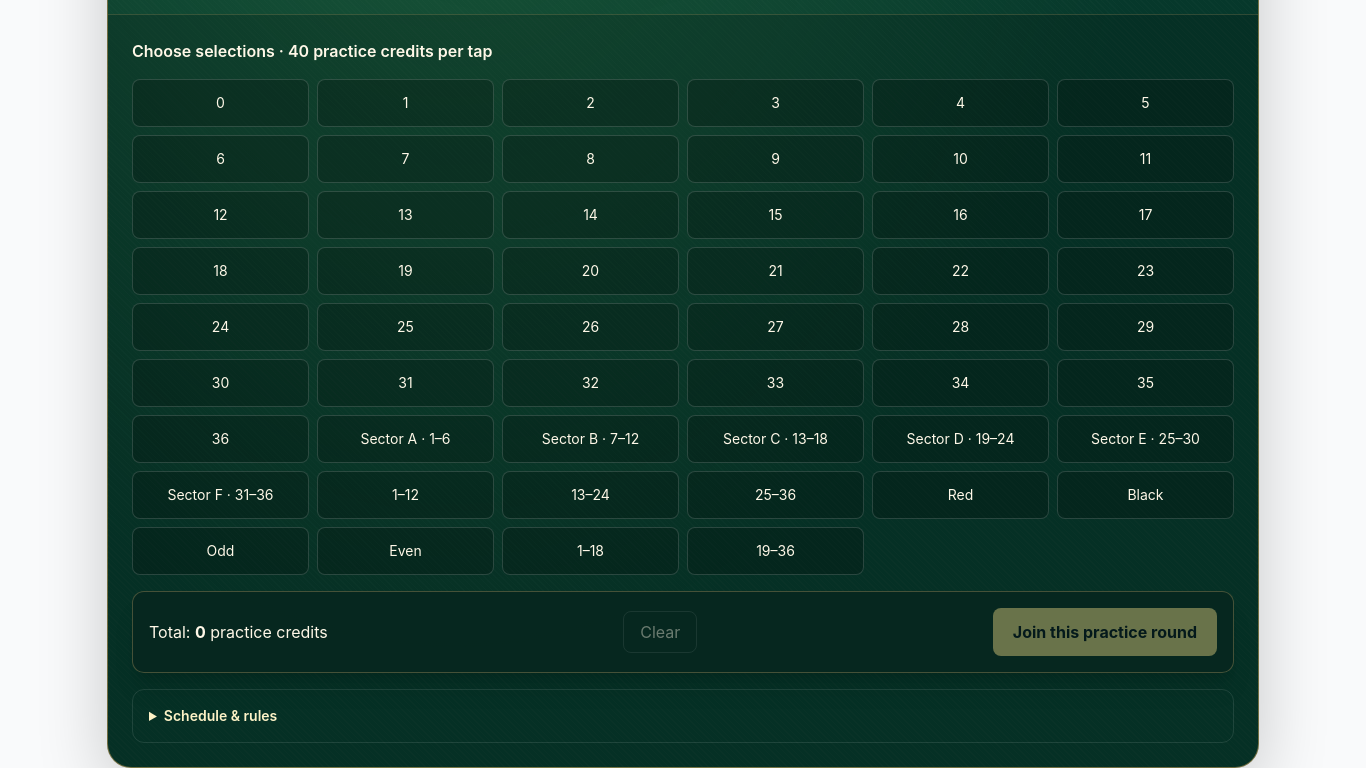
shared scheduled practice › locks a ticket to the specific server round and does not double-submit
(page scrolled)
Click the button with aria-label "Select Red": click(960, 495) [872,471,1049,519]
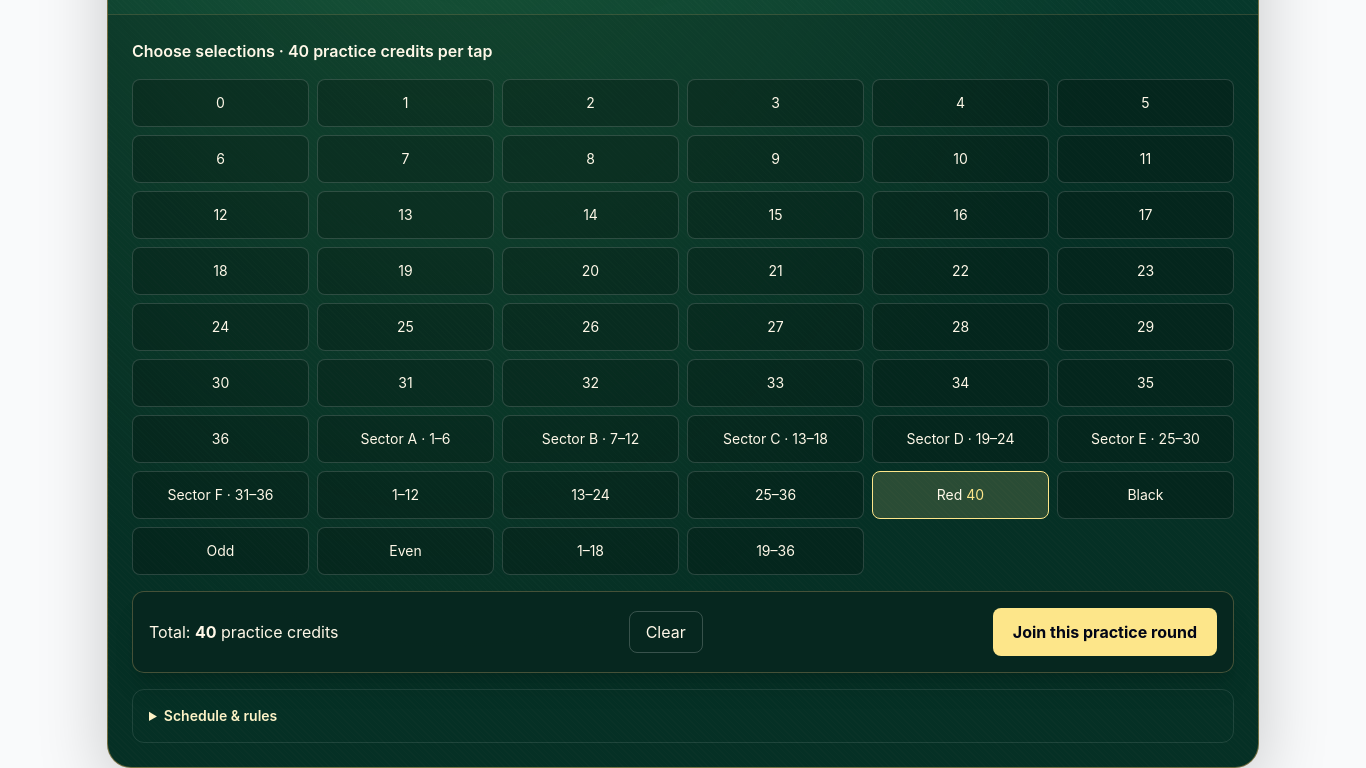
Click the button "Join this practice round": click(1105, 632) [993,608,1217,656]
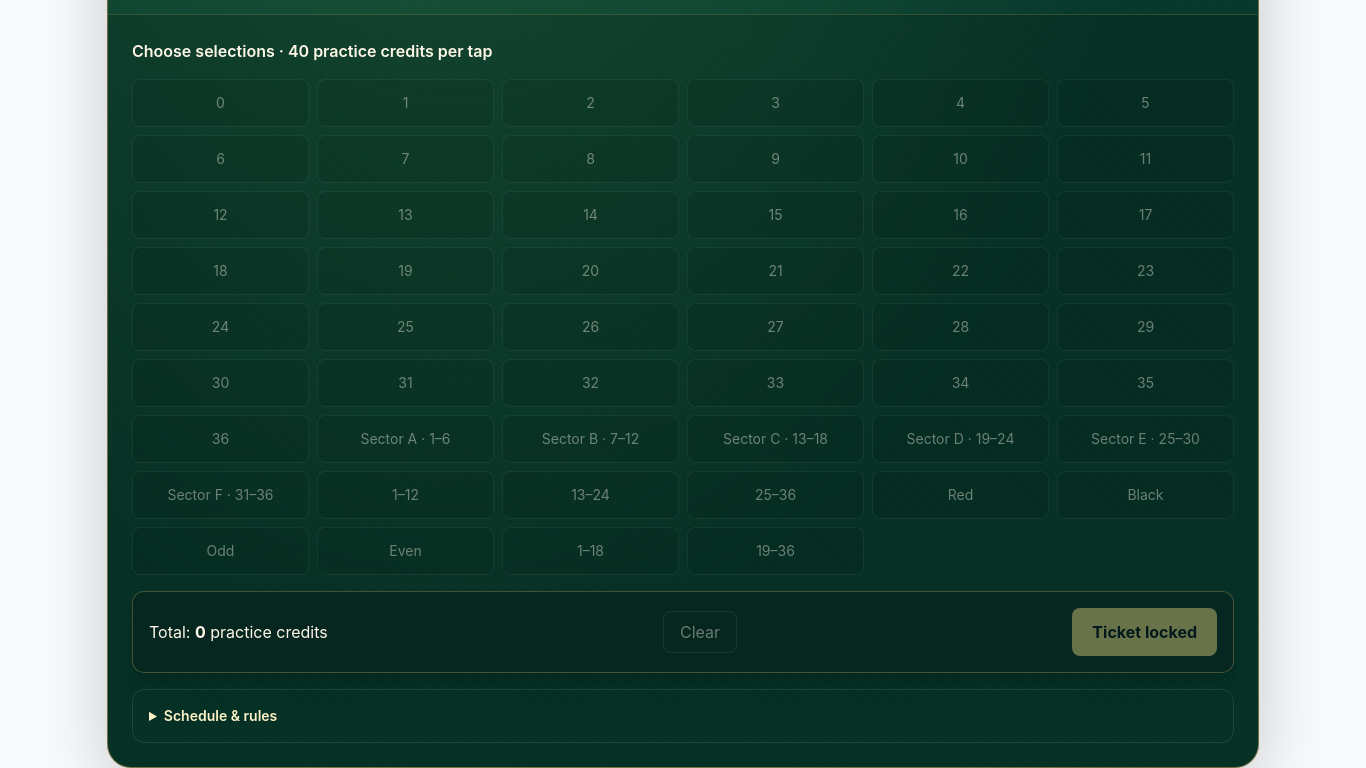
Expected: the button "Ticket locked" is shown, [1072,608,1217,656]
Expected: the button with aria-label "Select Red" is disabled, [872,471,1049,519]
